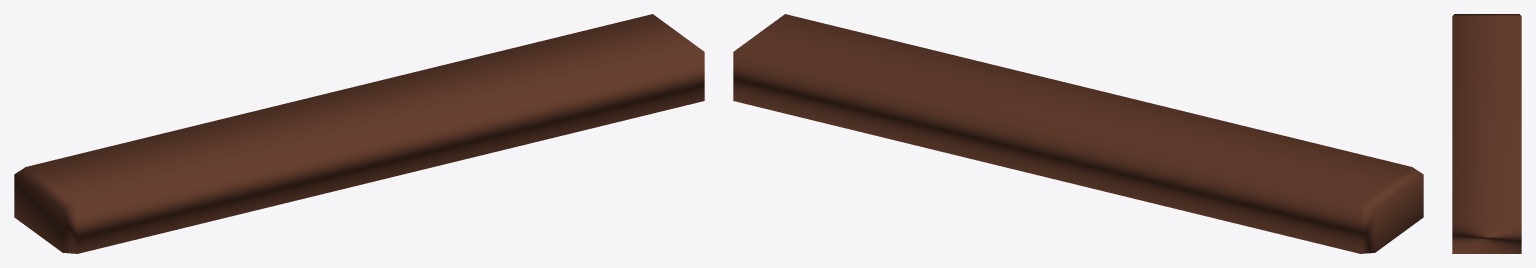
Rendered from WoodAxisLow.fbx.
3 views of the same model, side by side, from view 1: azimuth 30°, elevation 25°; view 2: azimuth 150°, elevation 25°; view 3: azimuth 270°, elevation 25° (orthographic). The views are drawn at different scales.
Visible parts, largest first — view 1: pCube1; view 2: pCube1; view 3: pCube1.
Boxes of the visible parts, bbox=[...] form: pCube1: bbox=[14, 14, 704, 253]; pCube1: bbox=[733, 14, 1423, 253]; pCube1: bbox=[1452, 14, 1521, 253].
Size of the model in its own units: 6.2 by 0.4529 by 0.8718.
